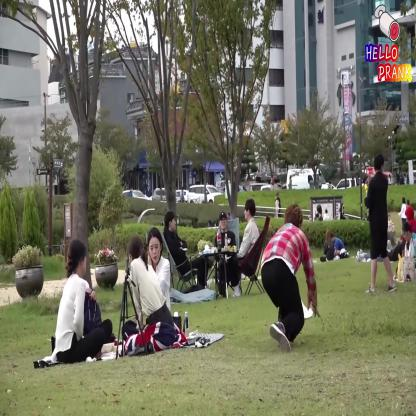Fall_Down: (257, 199, 322, 354)
